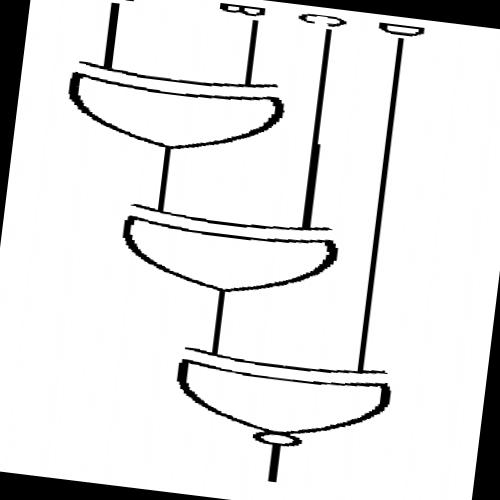xnor: (128, 329, 424, 469)
xor: (80, 184, 356, 318), (41, 39, 304, 176)
